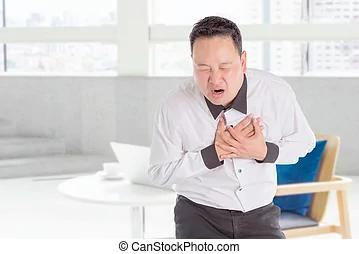pain: (191, 58, 237, 78)
